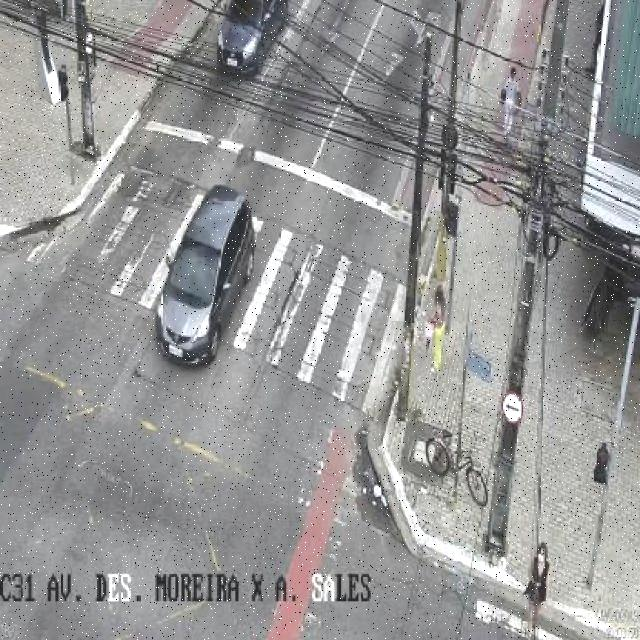Car: (153, 185, 257, 368), (213, 0, 292, 75)
Cycle: (424, 429, 490, 508)
